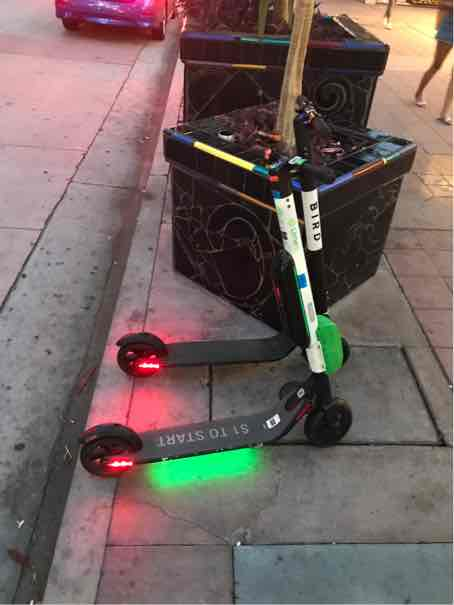scooter: (61, 146, 372, 479)
